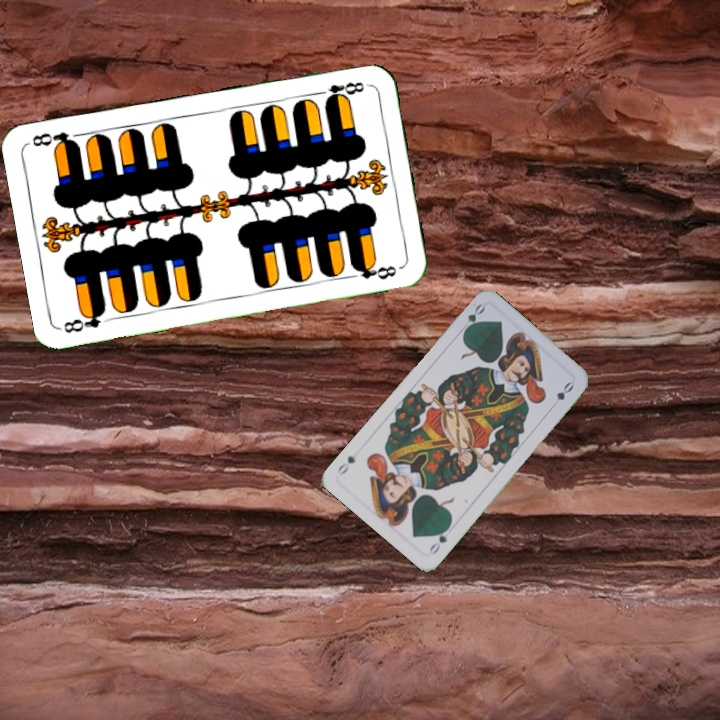E8: (59, 305, 117, 336), (311, 78, 370, 105)
GO: (456, 300, 488, 337), (425, 521, 453, 557)
